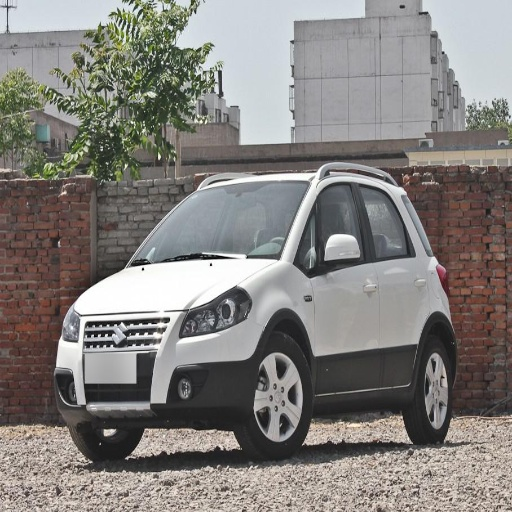front_bumper: (57, 310, 264, 427)
front_glass: (130, 182, 308, 266)
front_left_door: (296, 176, 382, 390)
